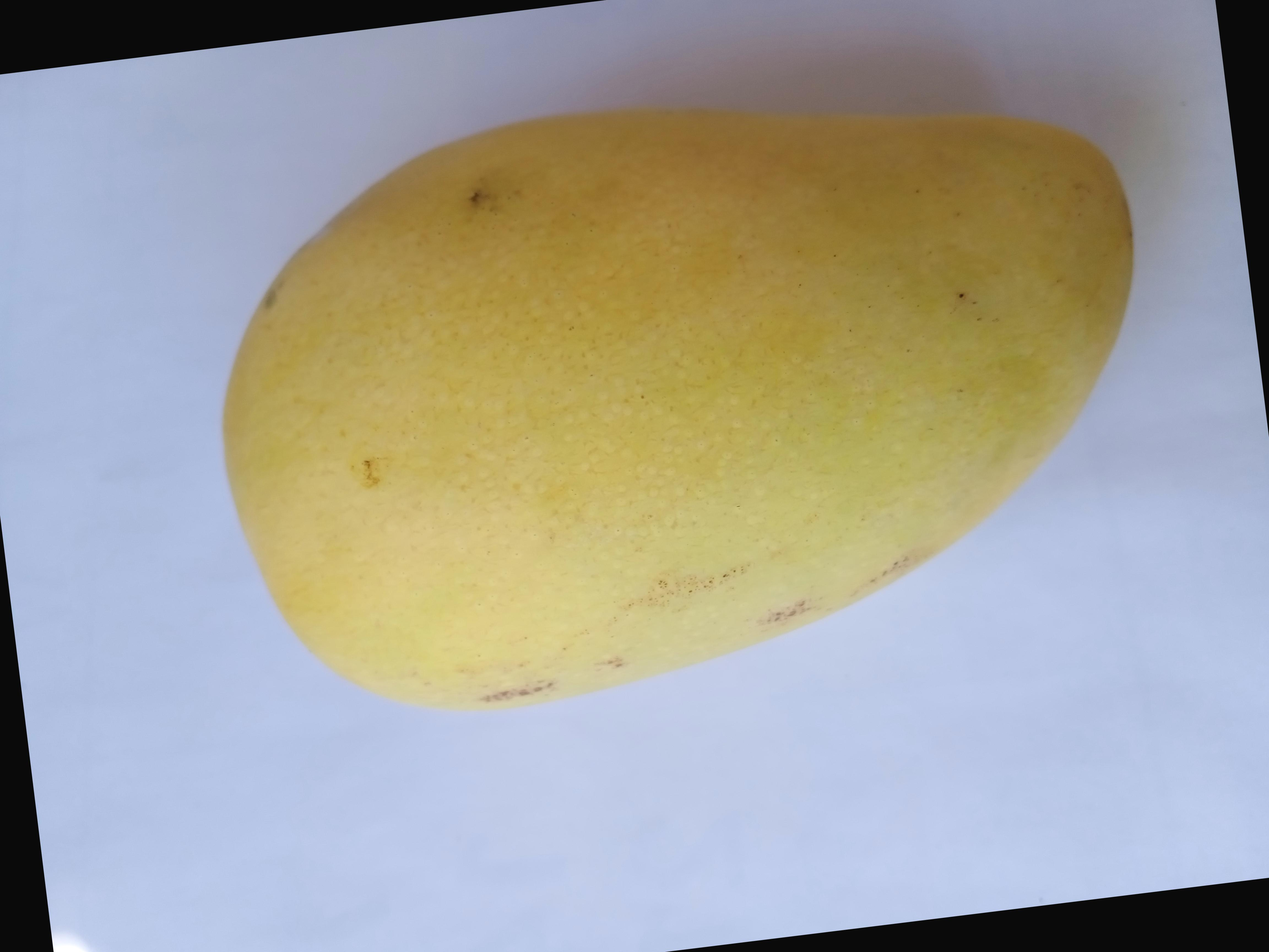Mango Ripe: (63, 99, 1157, 898)
